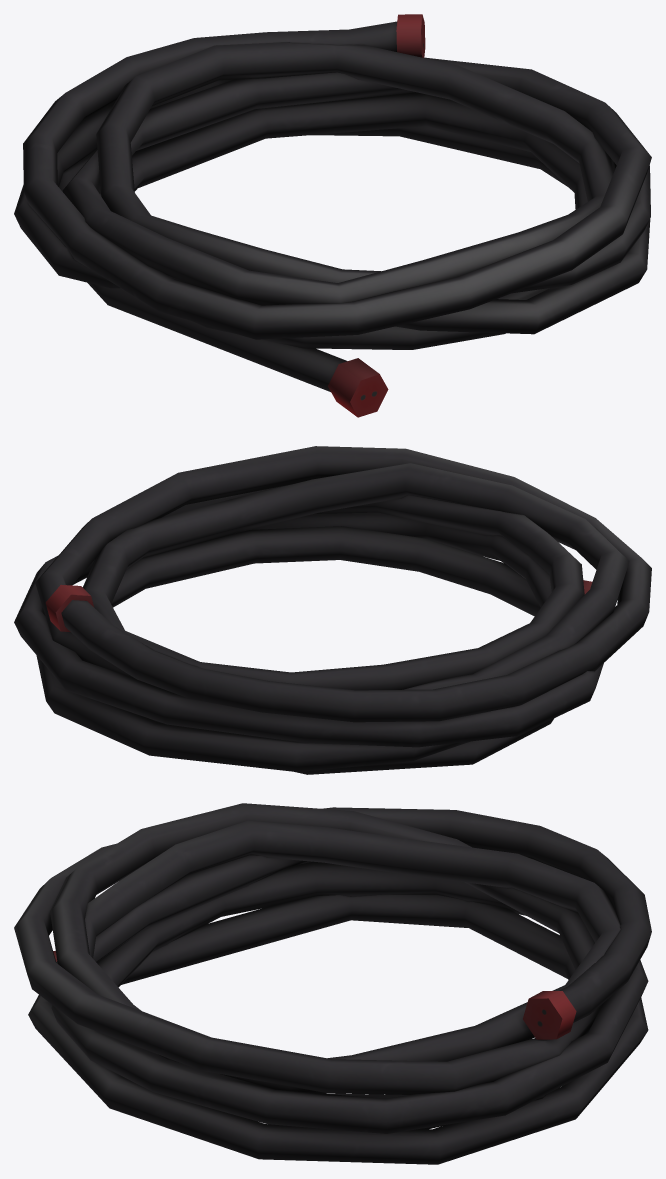
The model's file is Wire.fbx.
The picture shows the model from 3 angles, top to bottom: view 1: azimuth 30°, elevation 25°; view 2: azimuth 150°, elevation 25°; view 3: azimuth 270°, elevation 25°; orthographic projection. The views are drawn at different scales.
Parts seen in each view (by area): view 1: BézierCurve; view 2: BézierCurve; view 3: BézierCurve.
Part boxes in pixels (box(x1,y1,x2,y2)): BézierCurve: box(14, 14, 651, 417); BézierCurve: box(14, 446, 651, 774); BézierCurve: box(14, 803, 651, 1164).
Size of the model in its own units: 111 by 26.9 by 107.
Materials: 1 (1 with a texture image).
